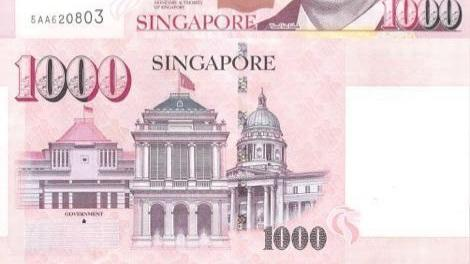1000SingaporeDollar: (0, 38, 470, 264)
